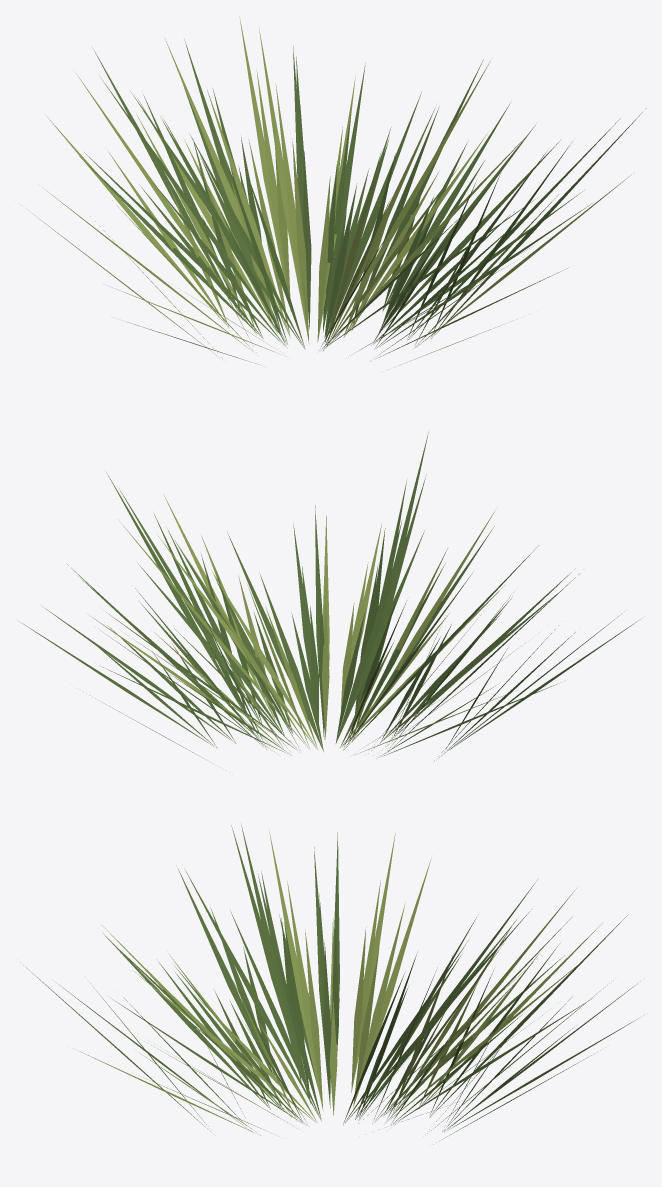
The model's file is sedge.meshopt.glb.
3 views of the same model, one above another, from view 1: azimuth 30°, elevation 25°; view 2: azimuth 150°, elevation 25°; view 3: azimuth 270°, elevation 25° (orthographic). The views are drawn at different scales.
Visible parts, largest first — view 1: sedge; view 2: sedge; view 3: sedge.
Part boxes in pixels (bbox=[...]): sedge: bbox=[21, 16, 646, 369]; sedge: bbox=[19, 431, 640, 763]; sedge: bbox=[20, 825, 643, 1144].
Bounding box in the file's own units: 2.82 × 1.08 × 2.94.
